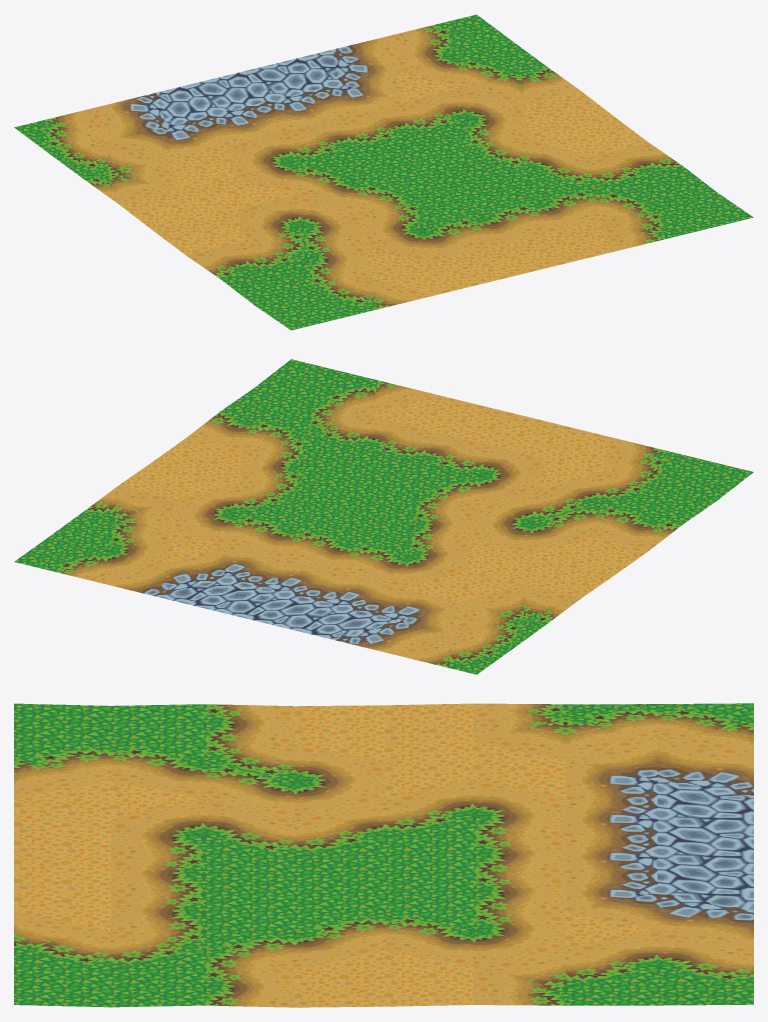
Rendered from c_grd_f_g_2.001.glb.
3 views of the same model, one above another, from view 1: azimuth 30°, elevation 25°; view 2: azimuth 150°, elevation 25°; view 3: azimuth 270°, elevation 25° (orthographic). The views are drawn at different scales.
Visible parts, largest first — view 1: c_grd_f_g_2.001; view 2: c_grd_f_g_2.001; view 3: c_grd_f_g_2.001.
Part boxes in pixels (x1=…): c_grd_f_g_2.001: x1=14, y1=14, x2=753, y2=330; c_grd_f_g_2.001: x1=14, y1=359, x2=753, y2=674; c_grd_f_g_2.001: x1=14, y1=703, x2=753, y2=1007.
Size of the model in its own units: 32 by 0.1406 by 33.2.
5 materials, 5 textured.
